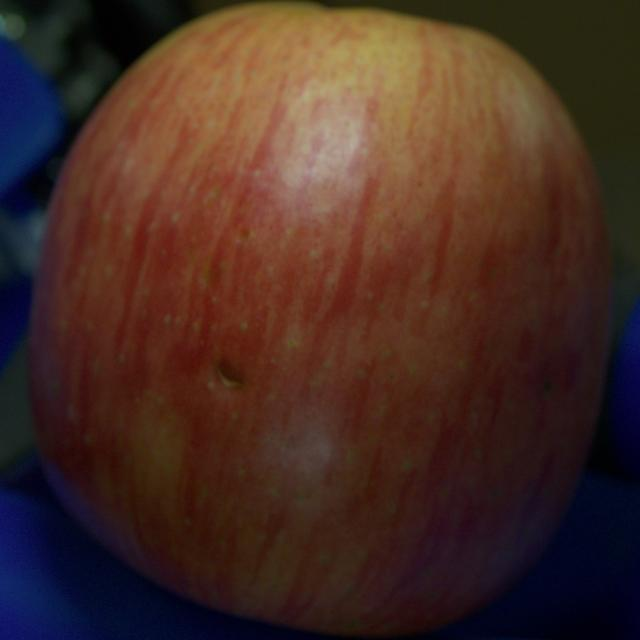apple: (29, 3, 611, 636)
pest: (543, 379, 553, 393)
scratch: (217, 366, 241, 388)
